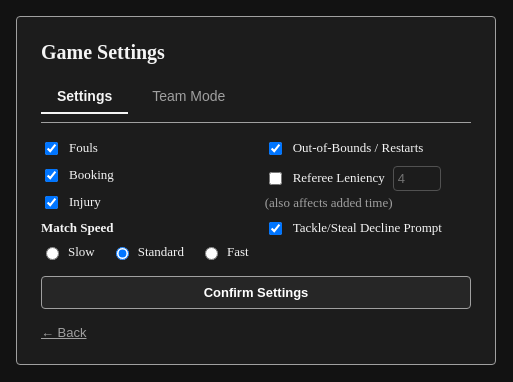
Test: GameSettingsScreen — Match Rules: Fouls/Booking/Injury toggles (D-12/D-13/D-14, Phase 39) › unchecking Fouls disables Booking/Injury and renders "(requires Fouls)" twice
Click the checkbox labelled "Fouls" at {"x": 52, "y": 148}, box [45, 142, 58, 154]
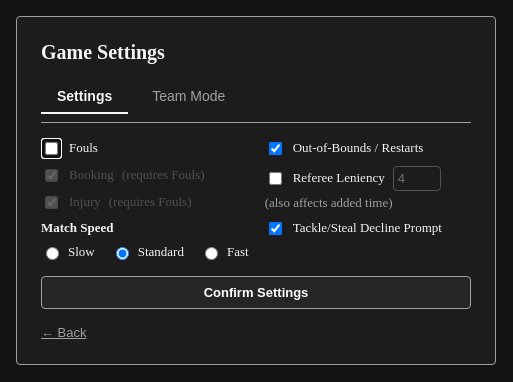
Expected: the checkbox labelled "Booking (requires Fouls)" is disabled, [45, 168, 58, 182]
Expected: the checkbox labelled "Injury (requires Fouls)" is disabled, [45, 196, 58, 208]
Expected: the text "(requires Fouls)" is shown 2 times, [122, 167, 204, 183]; [109, 194, 192, 210]
